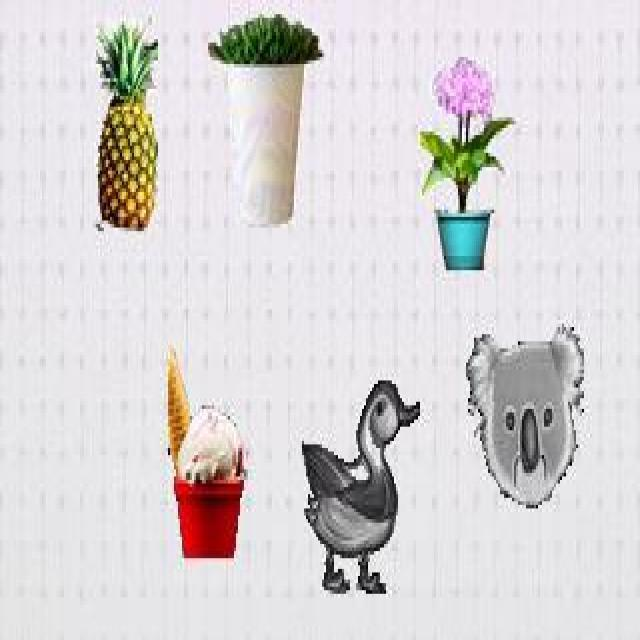Other Objects: (300, 378, 420, 594), (206, 13, 324, 226), (418, 58, 515, 269), (166, 344, 246, 559)
